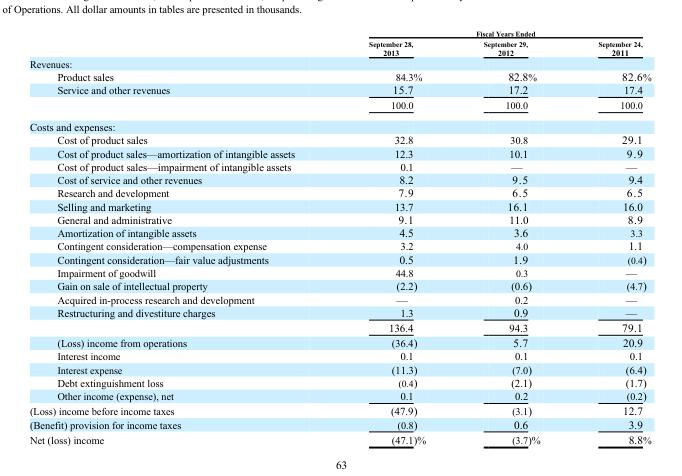table: (28, 28, 650, 445)
table column: (28, 28, 331, 445), (331, 28, 453, 445), (453, 28, 568, 445), (568, 28, 650, 445)
table column header: (28, 28, 650, 57)
table projected row header: (28, 115, 650, 132), (28, 57, 650, 69)
table row: (28, 38, 650, 57), (28, 97, 650, 115), (28, 115, 650, 132), (28, 82, 650, 97), (28, 319, 650, 334), (28, 334, 650, 349), (28, 402, 650, 417), (28, 132, 650, 146), (28, 185, 650, 199), (28, 225, 650, 239), (28, 278, 650, 292), (28, 305, 650, 319), (28, 388, 650, 402), (28, 417, 650, 431), (28, 431, 650, 445), (28, 69, 650, 82), (28, 146, 650, 159), (28, 159, 650, 172), (28, 172, 650, 185), (28, 199, 650, 212), (28, 212, 650, 225), (28, 239, 650, 252), (28, 252, 650, 265), (28, 265, 650, 278), (28, 292, 650, 305), (28, 349, 650, 362), (28, 362, 650, 375), (28, 375, 650, 388), (28, 57, 650, 69), (28, 28, 650, 38)
table spanning cell: (331, 28, 650, 38)
